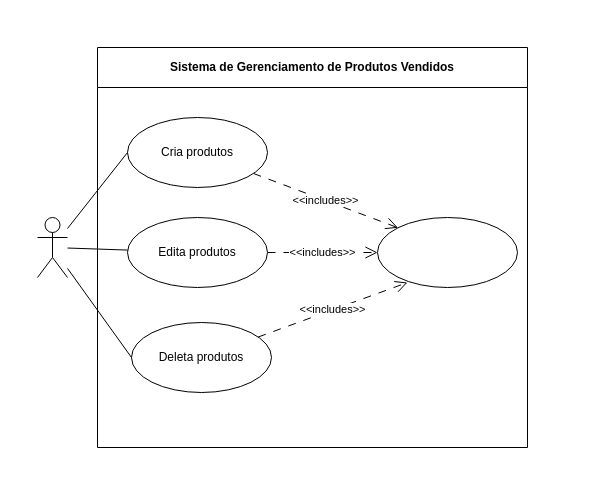
Some shapes in this 594 by 494 pixel diagram are drawn without their labels. The box of each missing label's shape, as (x1, y1, x2, y2) in pixels:
Exibe produtos: (376, 216, 518, 288)
Usuário: (36, 216, 68, 278)
